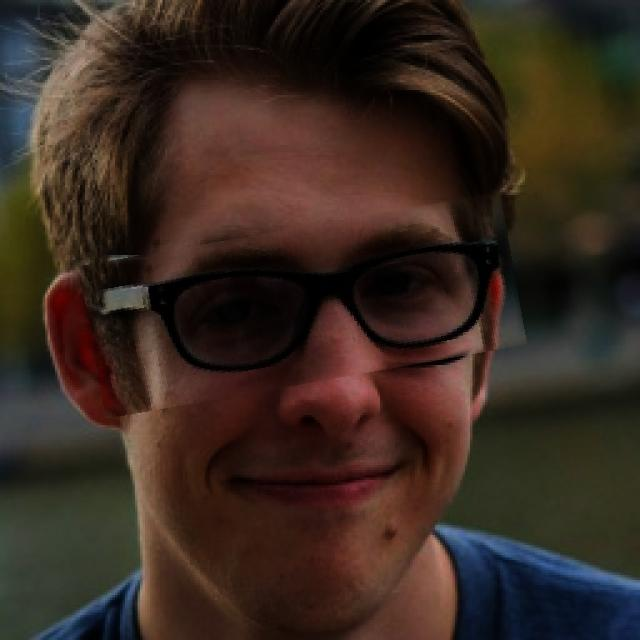glasses: (84, 210, 522, 401)
